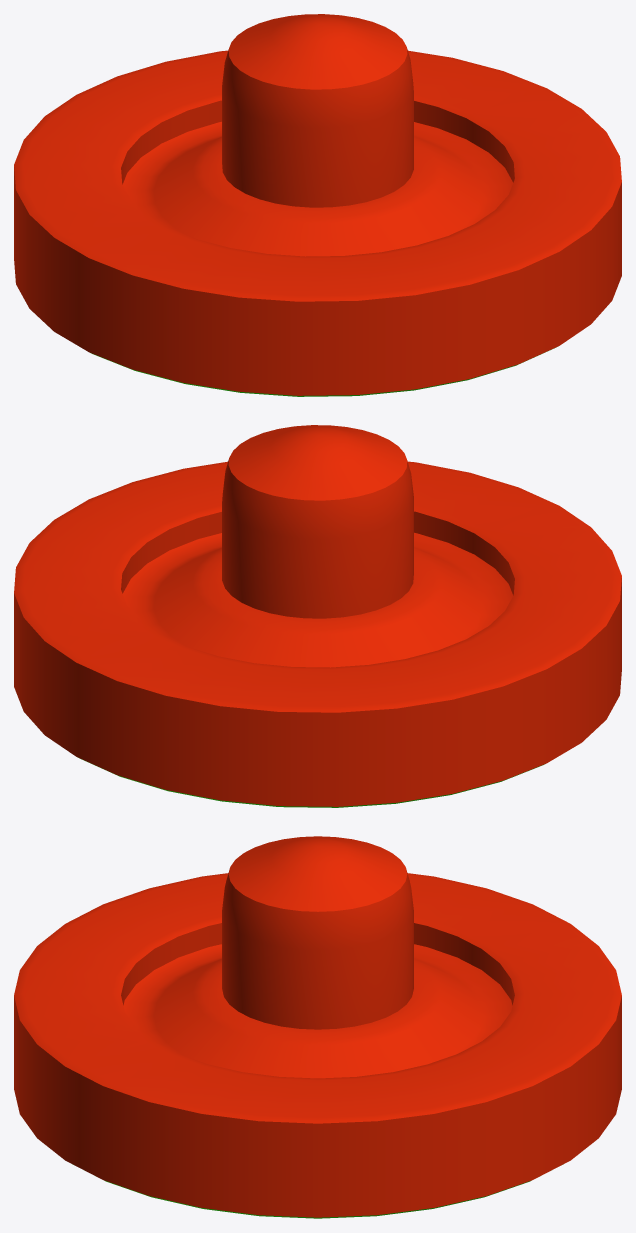
File: paddle.fbx
3 renders of one model, top to bottom at view 1: azimuth 30°, elevation 25°; view 2: azimuth 150°, elevation 25°; view 3: azimuth 270°, elevation 25°, orthographic.
Visible parts, largest first — view 1: Hockey Paddel; view 2: Hockey Paddel; view 3: Hockey Paddel.
Part boxes in pixels (x1,y1,x2,y2): Hockey Paddel: (14, 14, 621, 396); Hockey Paddel: (14, 425, 621, 807); Hockey Paddel: (14, 836, 621, 1218).
Size of the model in its own units: 438 by 198 by 438.
